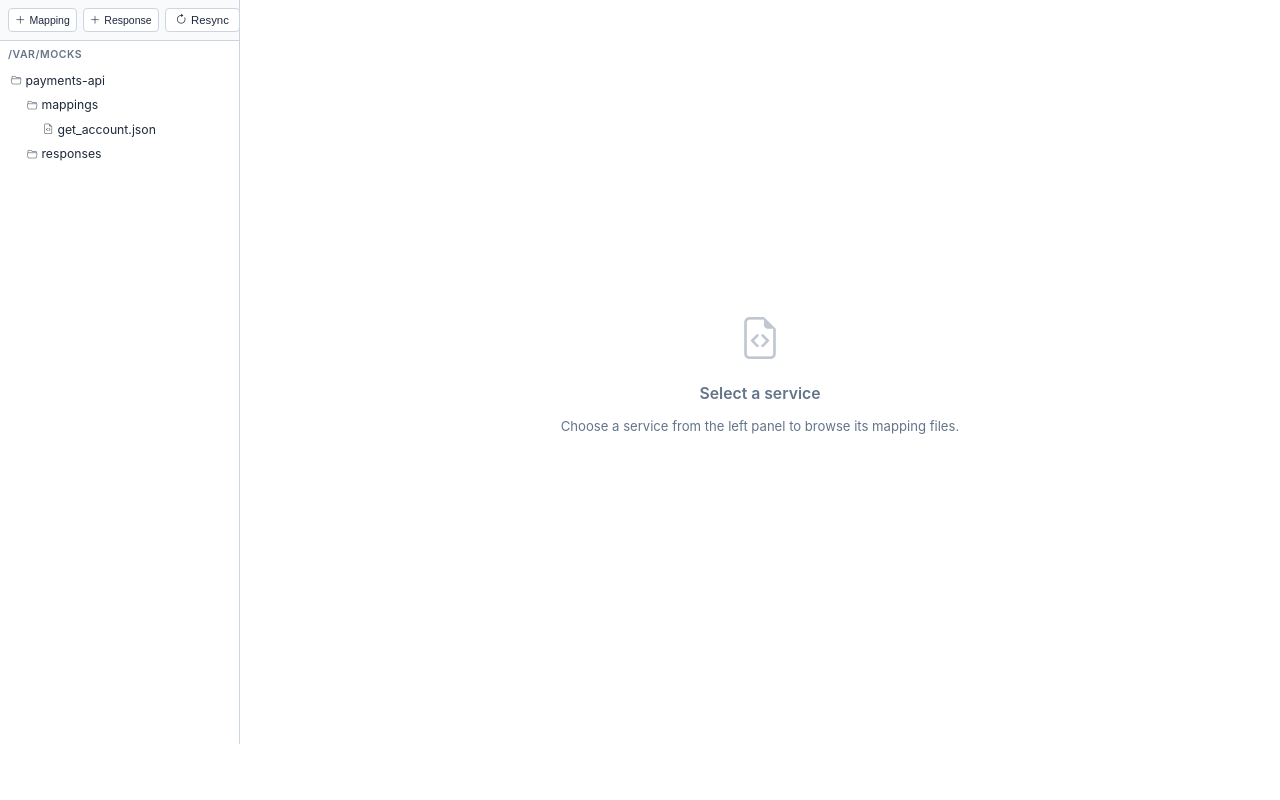
Test: MappingsPage — handleRenameSuccess clears active file › after successful rename, editor closes (no active file)
This screenshot has width=1280, height=800.
Expected: the text "payments-api" is shown, [25,73,105,88]
Step 1. Click the list item with test id "mappings-tree-node-payments-api-get_account.json" → {"x": 99, "y": 130}, box [43,122,156,138]
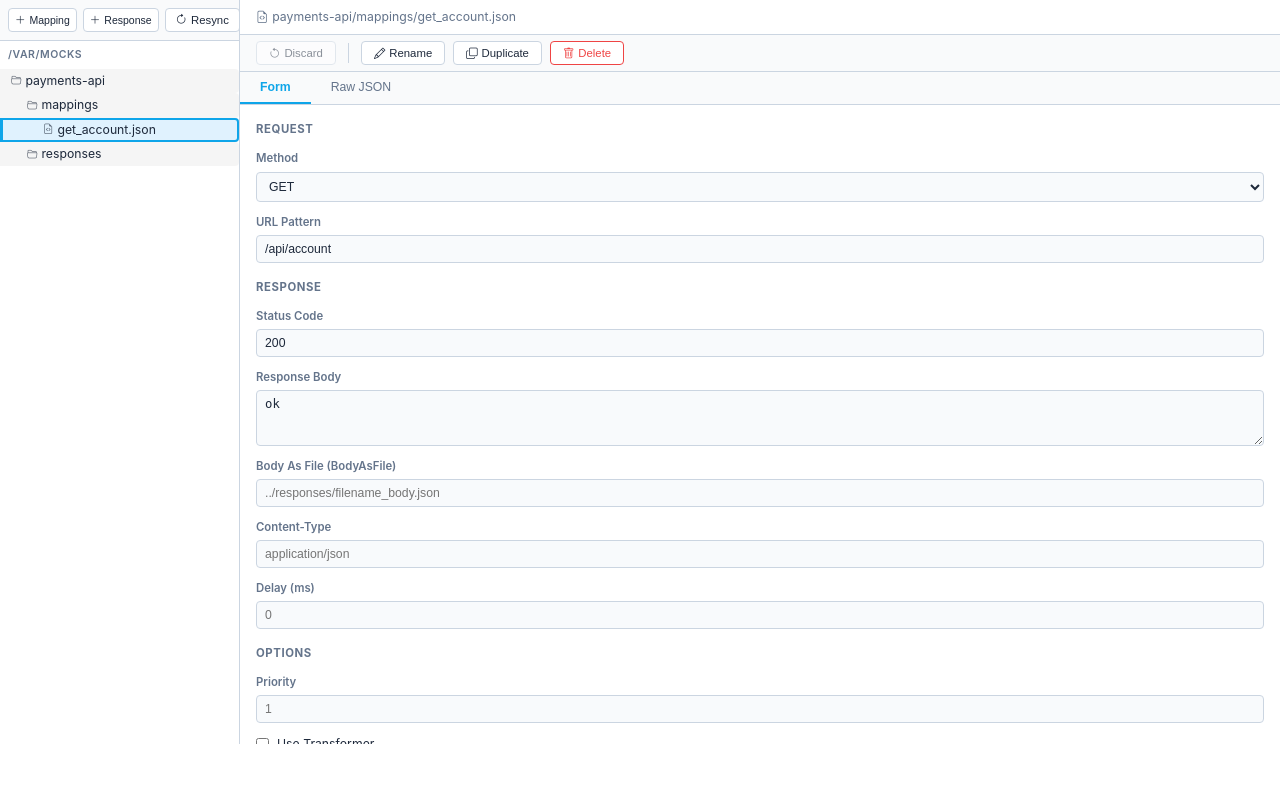
Result: the element with test id "mappings-breadcrumb-editor" is shown at [240,0,1279,35]
Step 2. Click the button with test id "mappings-btn-rename" → {"x": 403, "y": 53}, box [361,41,445,65]
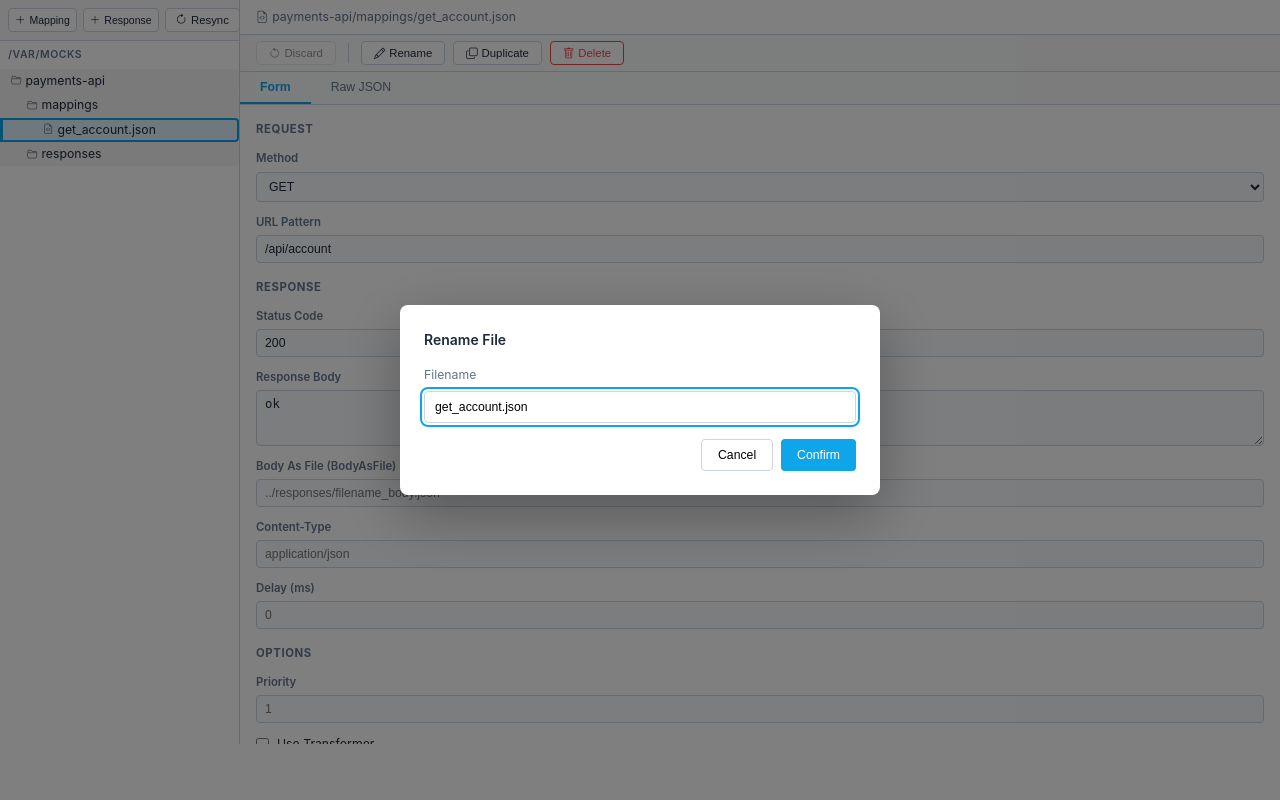
Result: the dialog with test id "mappings-modal-file-name" is shown
Step 3. Replace the text in the field with test id "mappings-input-filename" with "renamed.json" → {"x": 640, "y": 407}, box [424,391,856,423]
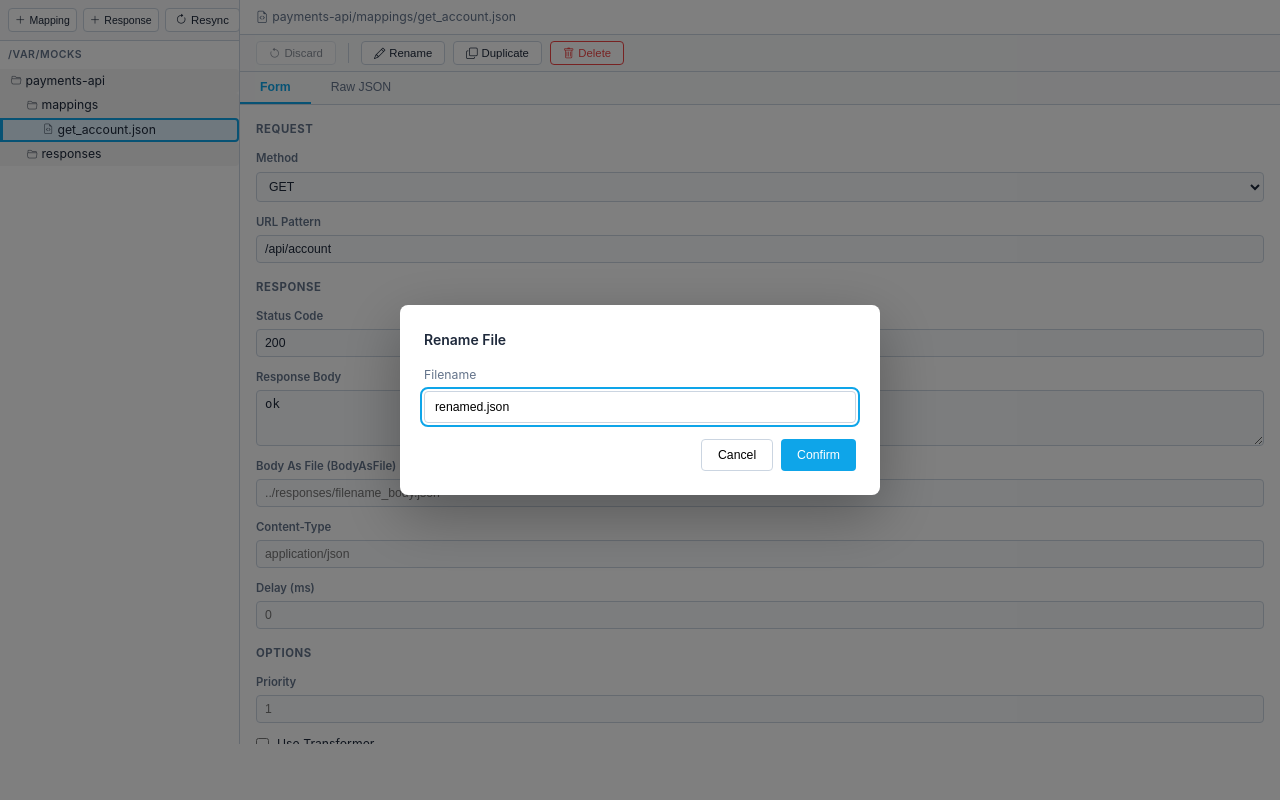
Step 4. Click the button "Confirm" → {"x": 819, "y": 455}, box [781,439,856,471]
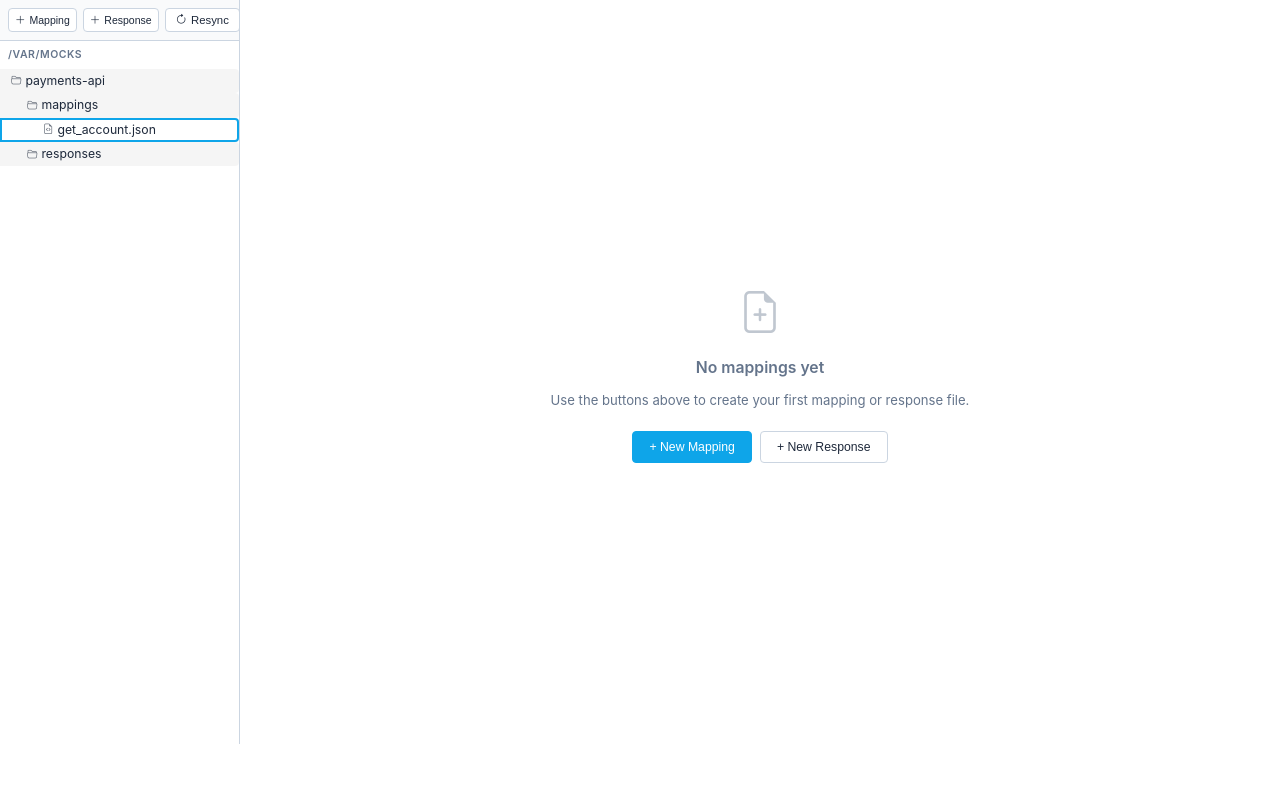
Result: the element with test id "mappings-breadcrumb-editor" is gone
